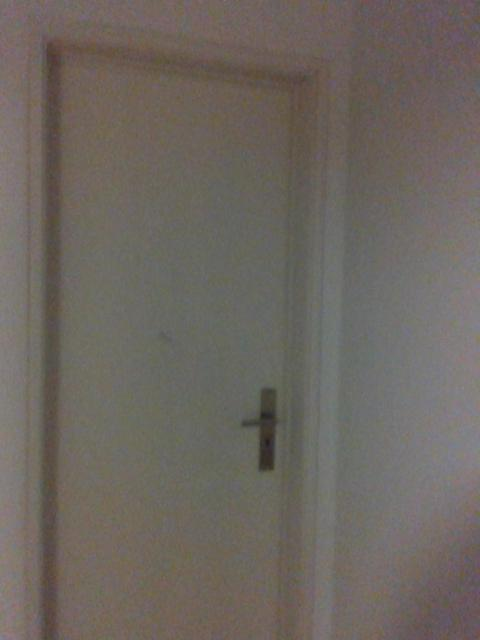door: (45, 49, 308, 640)
